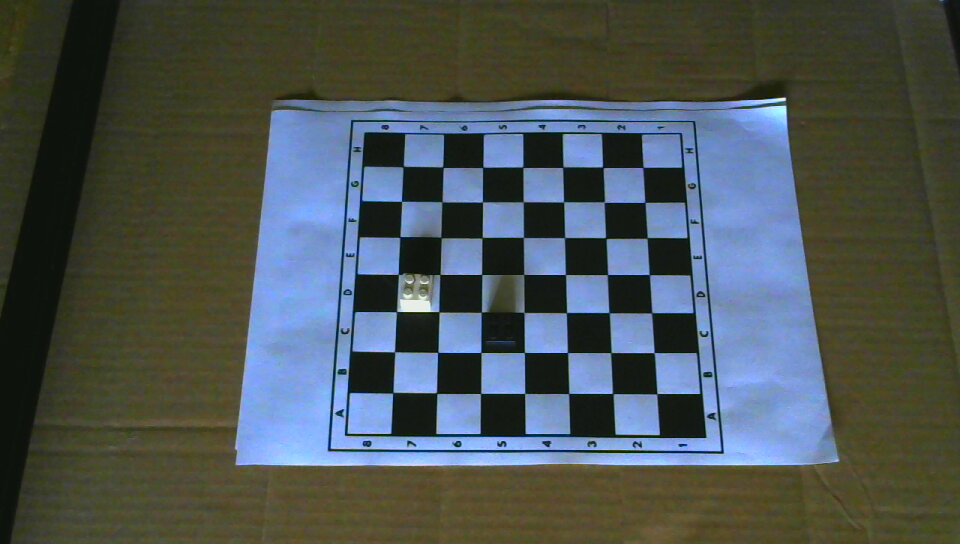bp: (484, 310, 521, 351)
wp: (399, 269, 435, 311)
